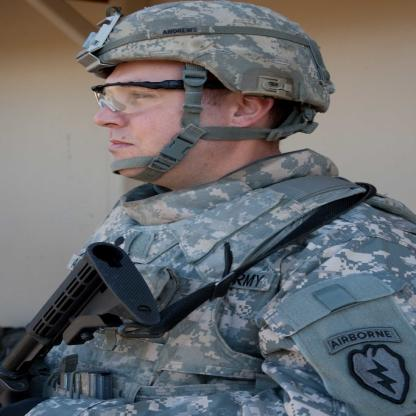Helmet: (76, 2, 329, 170)
